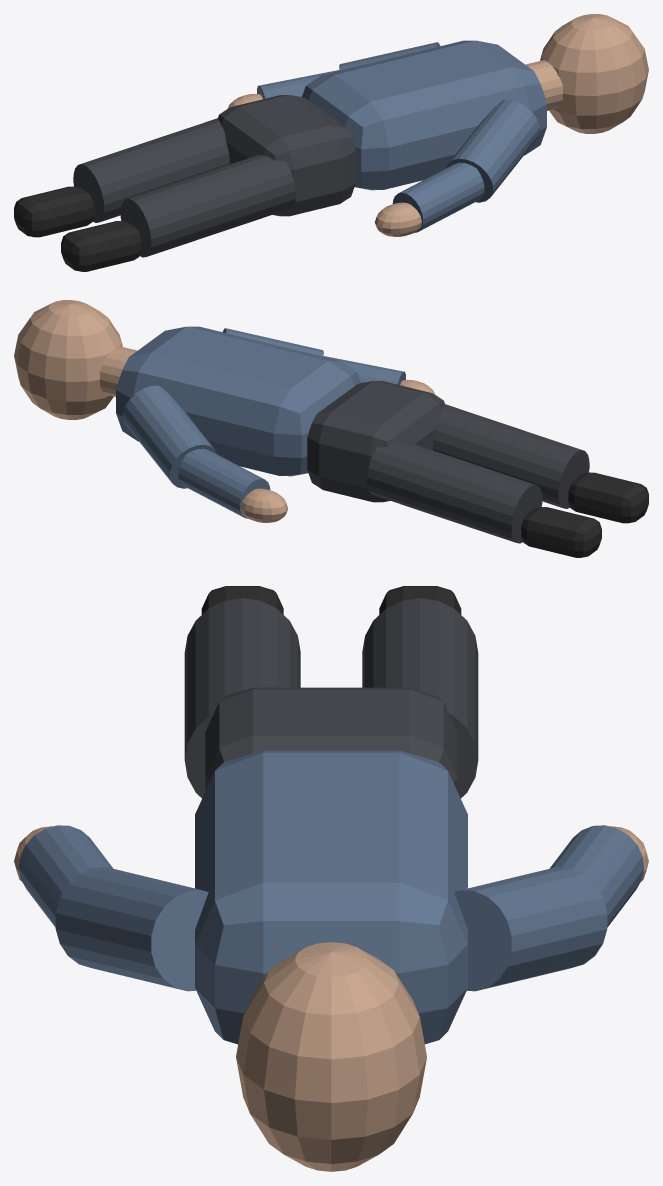
File: victim_body.glb
3 renders of one model, top to bottom at view 1: azimuth 30°, elevation 25°; view 2: azimuth 150°, elevation 25°; view 3: azimuth 270°, elevation 25°, orthographic. The views are drawn at different scales.
Parts seen in each view (by area): view 1: Clothed_Torso, Trouser_Leg, Clothed_Pelvis, Head, Trouser_Leg.001, Sleeve_Upper_Arm, Sleeve_Forearm, Shoe.001, Shoe, Hand, Neck, Sleeve_Forearm.001 (+1 smaller); view 2: Clothed_Torso, Trouser_Leg.001, Clothed_Pelvis, Head, Trouser_Leg, Sleeve_Upper_Arm.001, Sleeve_Forearm.001, Shoe, Shoe.001, Hand.001, Neck, Sleeve_Forearm (+1 smaller); view 3: Clothed_Torso, Head, Clothed_Pelvis, Sleeve_Upper_Arm, Sleeve_Upper_Arm.001, Trouser_Leg, Trouser_Leg.001, Sleeve_Forearm, Sleeve_Forearm.001, Shoe, Shoe.001.
Boxes of the visible parts, box(x1,y1,x2,y2) form: Clothed_Torso: box(302, 40, 546, 190); Trouser_Leg: box(120, 155, 295, 257); Clothed_Pelvis: box(218, 95, 355, 216); Head: box(540, 14, 648, 133); Trouser_Leg.001: box(73, 118, 229, 222); Sleeve_Upper_Arm: box(446, 99, 539, 202); Sleeve_Forearm: box(392, 162, 484, 232); Shoe.001: box(14, 186, 94, 237); Shoe: box(61, 221, 141, 271); Hand: box(374, 202, 421, 236); Neck: box(525, 60, 562, 110); Sleeve_Forearm.001: box(257, 70, 339, 98); Clothed_Torso: box(116, 326, 360, 476); Trouser_Leg.001: box(367, 441, 542, 543); Clothed_Pelvis: box(307, 381, 444, 502); Head: box(14, 300, 122, 419); Trouser_Leg: box(433, 404, 589, 508); Sleeve_Upper_Arm.001: box(123, 385, 216, 488); Sleeve_Forearm.001: box(178, 448, 270, 518); Shoe: box(568, 472, 648, 523); Shoe.001: box(521, 507, 601, 557); Hand.001: box(241, 488, 288, 522); Neck: box(100, 346, 137, 396); Sleeve_Forearm: box(323, 356, 405, 384); Clothed_Torso: box(195, 750, 467, 1044); Head: box(236, 942, 426, 1171); Clothed_Pelvis: box(205, 687, 457, 791); Sleeve_Upper_Arm: box(55, 867, 208, 991); Sleeve_Upper_Arm.001: box(454, 867, 607, 991); Trouser_Leg: box(184, 598, 300, 798); Trouser_Leg.001: box(362, 598, 478, 798); Sleeve_Forearm: box(18, 825, 112, 927); Sleeve_Forearm.001: box(550, 825, 644, 927); Shoe: box(201, 586, 283, 614); Shoe.001: box(379, 586, 461, 614).
Size of the model in its own units: 1.91 by 0.34 by 0.93.
